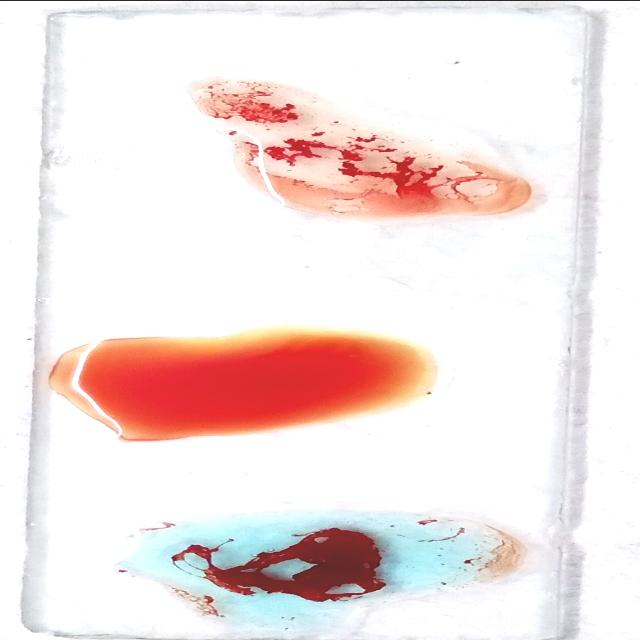A: (116, 514, 516, 612)
D: (183, 78, 495, 218)
